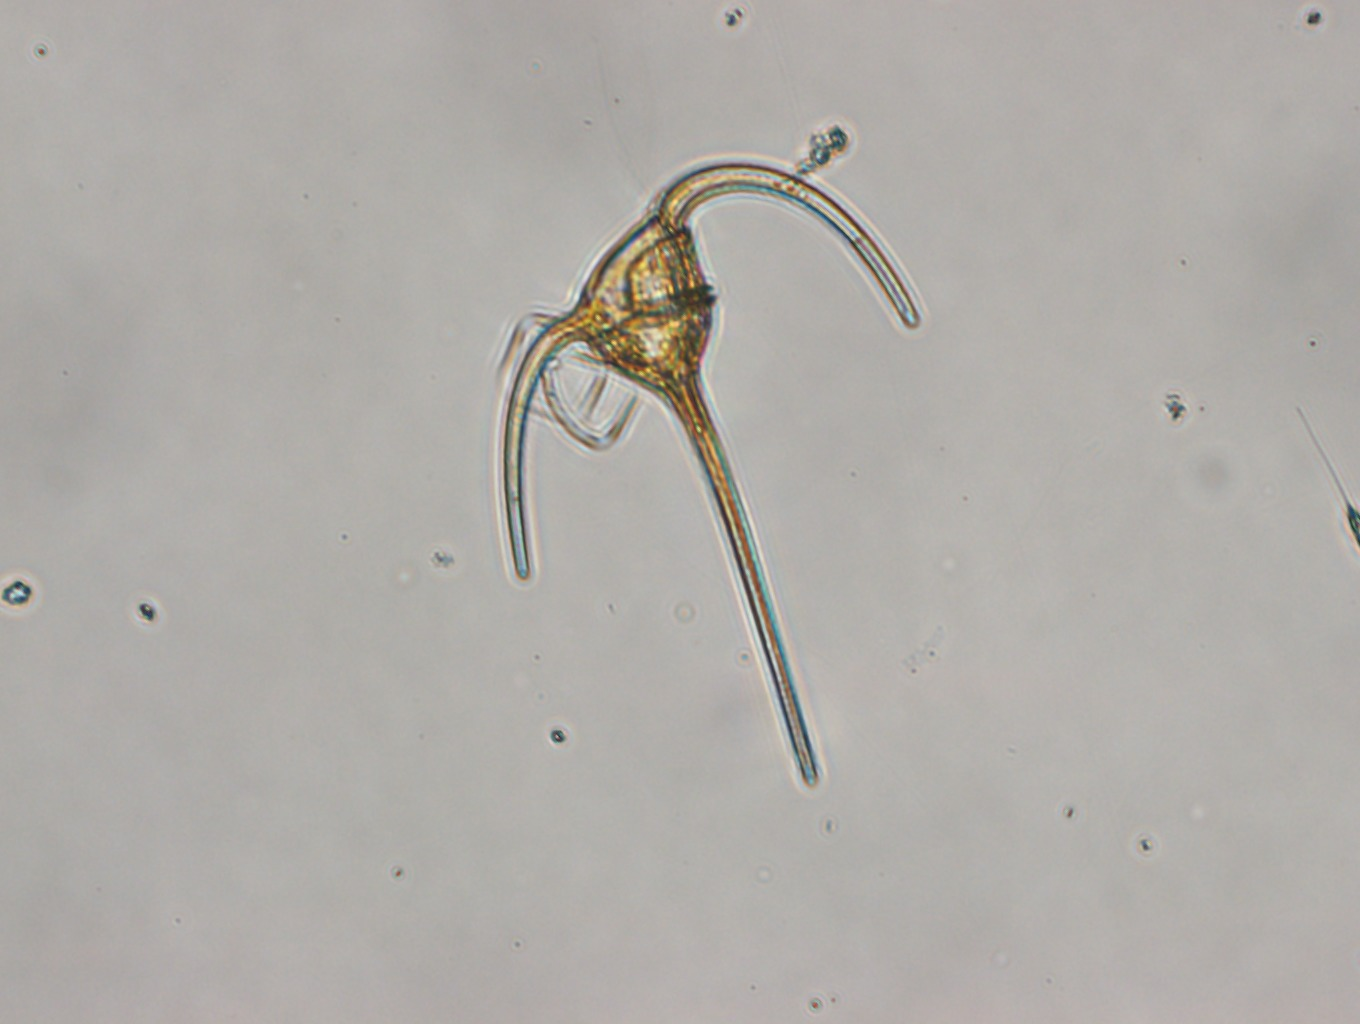ceratium trichoceros: (501, 156, 924, 794)
